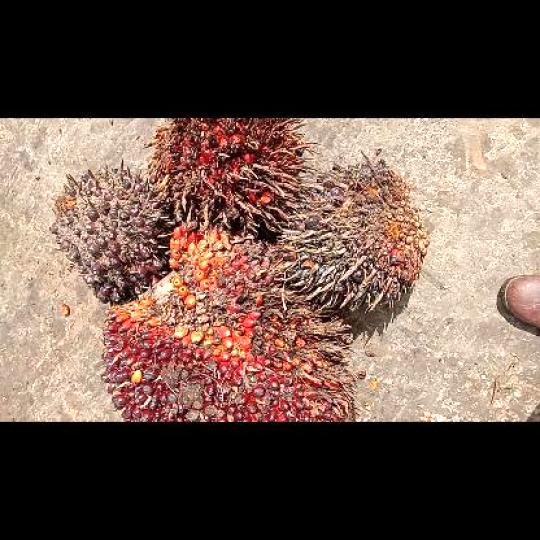kurang masak: (48, 164, 166, 303)
masak: (102, 221, 355, 420)
terlalu masak: (146, 119, 303, 234)
